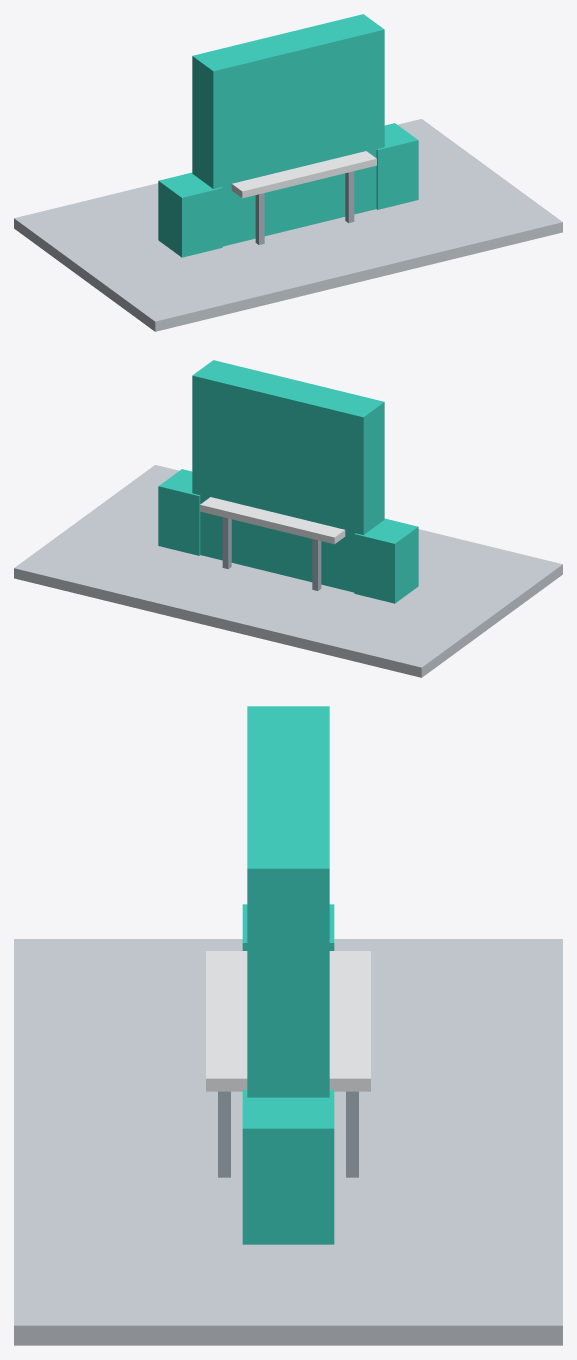
The picture shows the model from 3 angles, top to bottom: view 1: azimuth 30°, elevation 25°; view 2: azimuth 150°, elevation 25°; view 3: azimuth 270°, elevation 25°; orthographic projection. The views are drawn at different scales.
Parts seen in each view (by area): view 1: Exhibition Booth Concept; view 2: Exhibition Booth Concept; view 3: Exhibition Booth Concept.
Part boxes in pixels (left/top/right/bottom): Exhibition Booth Concept: left=14, top=14, right=562, bottom=331; Exhibition Booth Concept: left=14, top=360, right=562, bottom=677; Exhibition Booth Concept: left=14, top=706, right=562, bottom=1345.
Bounding box in the file's own units: 5 × 2.2 × 3.
